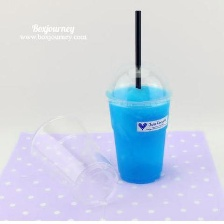drinking_straw: (131, 7, 145, 92)
glass: (100, 57, 181, 186), (26, 111, 124, 211)
